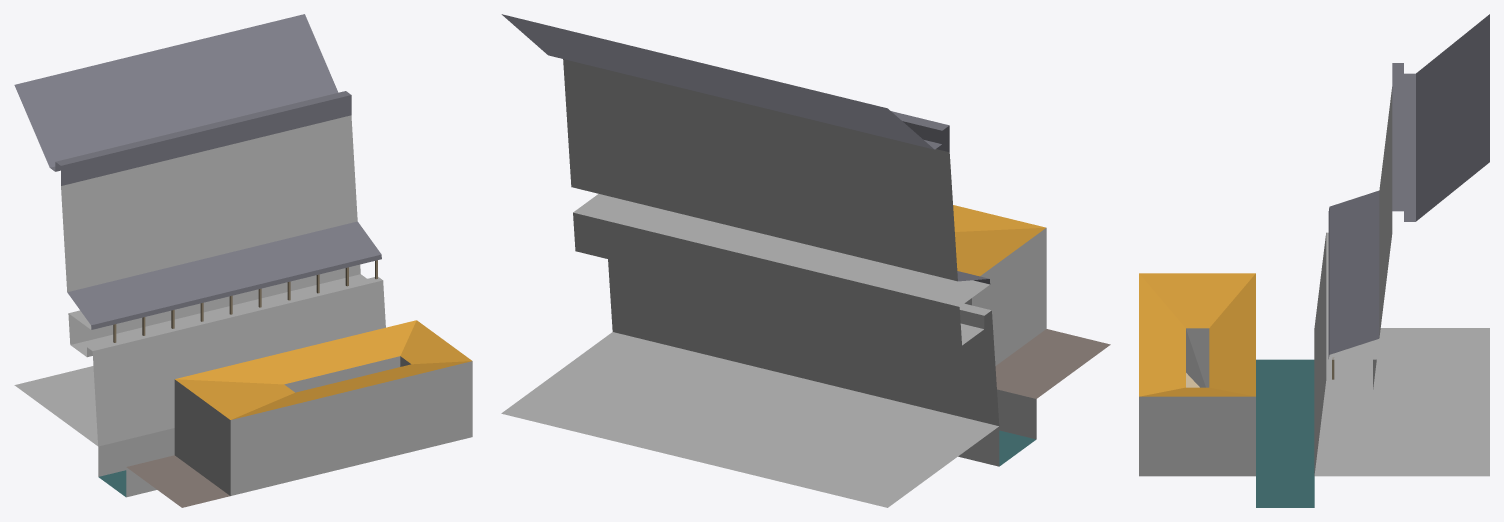
3 views of the same model, side by side, from view 1: azimuth 30°, elevation 25°; view 2: azimuth 150°, elevation 25°; view 3: azimuth 270°, elevation 25° (orthographic). The views are drawn at different scales.
Parts seen in each view (by area): view 1: cc2r; view 2: cc2r; view 3: cc2r.
Boxes of the visible parts, x1,y1,x2,y2 form: cc2r: (14,14,472,507); cc2r: (501,14,1110,507); cc2r: (1139,14,1489,507).
Bounding box in the file's own units: 30 × 32.63 × 30.
